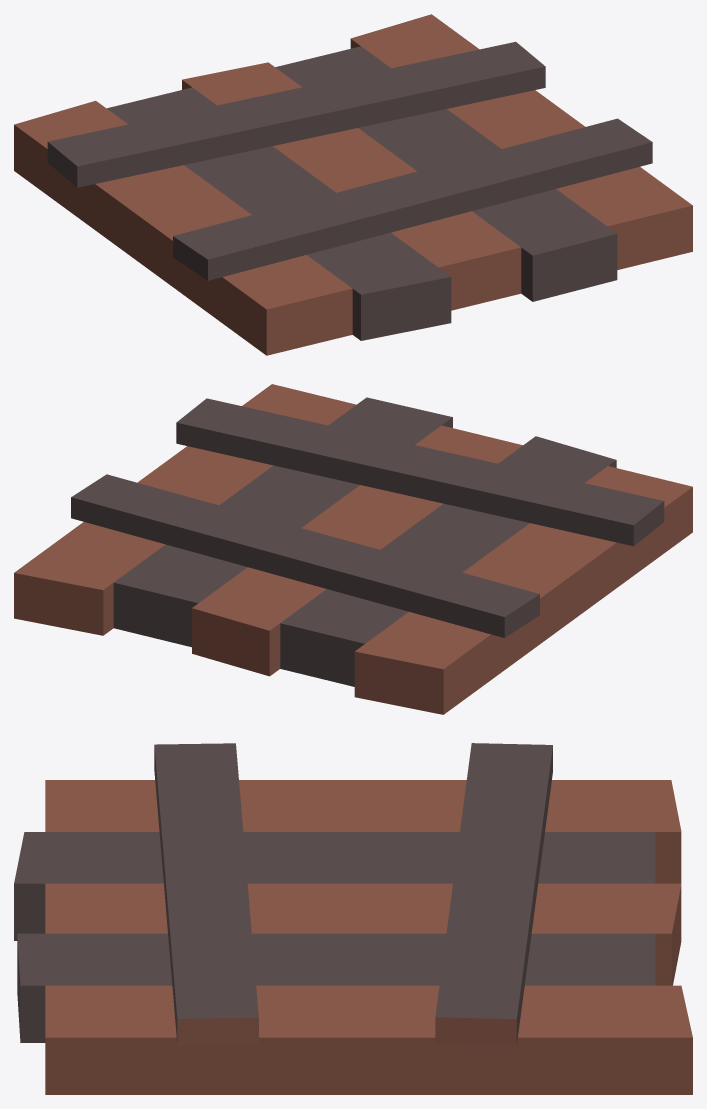
The model's file is TB_D_Bd_Bottom_Cover_B.FBX.
3 renders of one model, top to bottom at view 1: azimuth 30°, elevation 25°; view 2: azimuth 150°, elevation 25°; view 3: azimuth 270°, elevation 25°, orthographic. The views are drawn at different scales.
Visible parts, largest first — view 1: TB_D_Bd_Bottom_Cover_B; view 2: TB_D_Bd_Bottom_Cover_B; view 3: TB_D_Bd_Bottom_Cover_B.
Part boxes in pixels (left/top/right/bottom): TB_D_Bd_Bottom_Cover_B: left=14, top=14, right=692, bottom=355; TB_D_Bd_Bottom_Cover_B: left=14, top=384, right=692, bottom=714; TB_D_Bd_Bottom_Cover_B: left=14, top=743, right=692, bottom=1094.
Size of the model in its own units: 1.07 by 0.1514 by 1.11.
